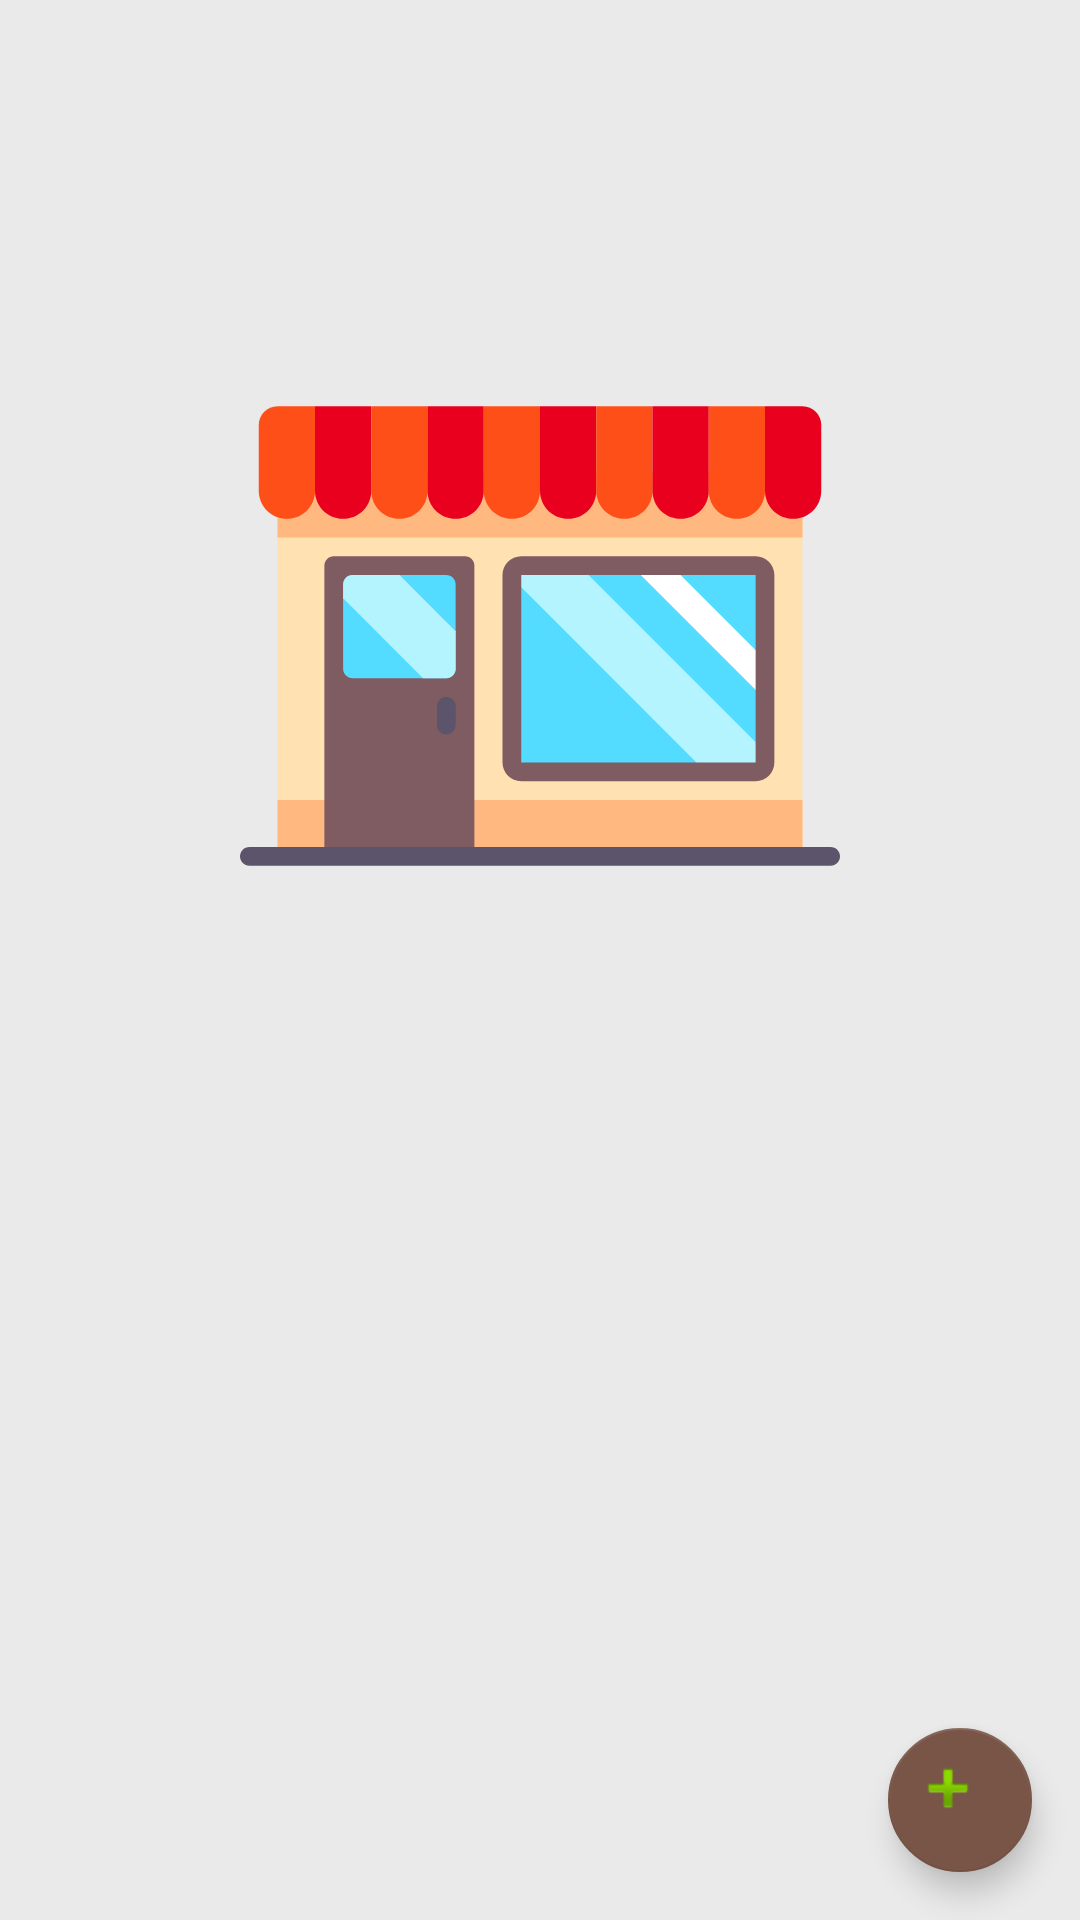

Icon click points for this 1080w x 1920h phone screenshot, format [x,y]:
add: [960,1800]
